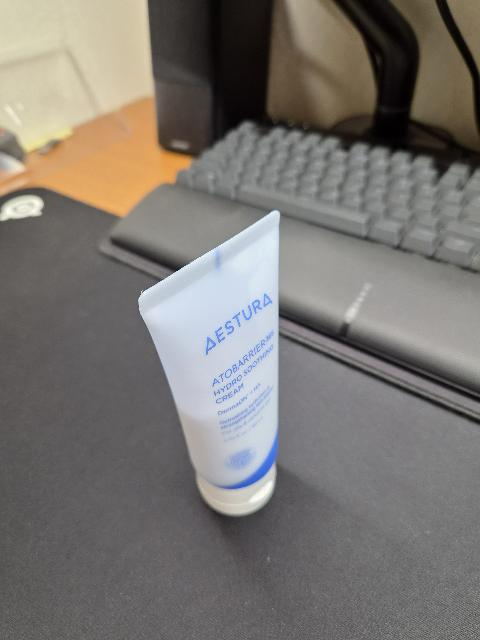handcream: (138, 210, 280, 517)
